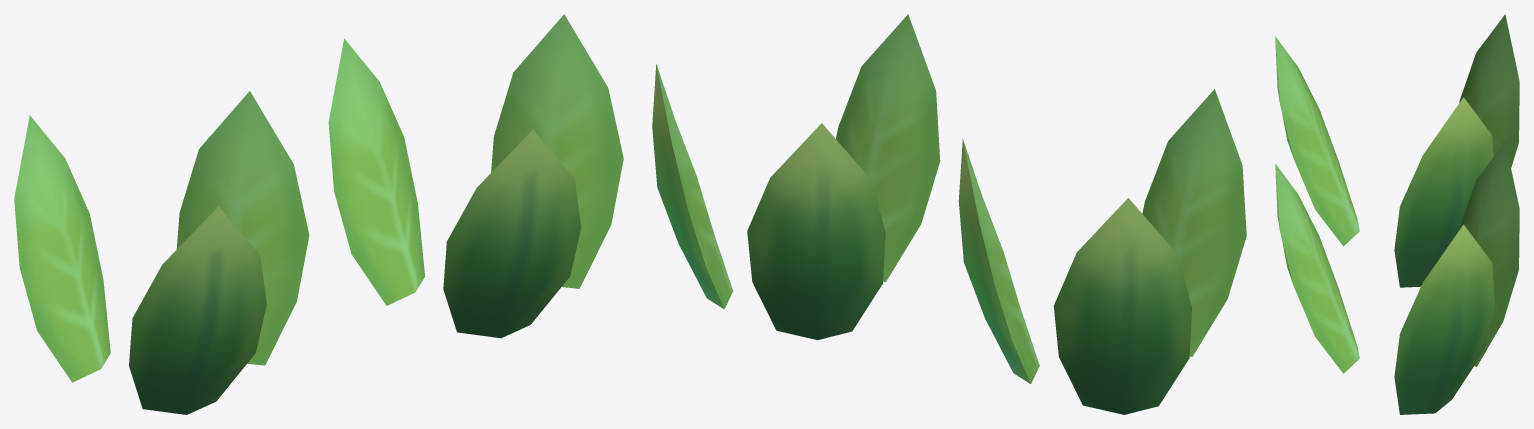
Rendered from Biggrass_3.FBX.
The picture shows the model from 3 angles, left to right: view 1: azimuth 30°, elevation 25°; view 2: azimuth 150°, elevation 25°; view 3: azimuth 270°, elevation 25°; orthographic projection. The views are drawn at different scales.
Parts seen in each view (by area): view 1: Box047; view 2: Box047; view 3: Box047.
Part boxes in pixels (left/top/right/bottom): Box047: left=14, top=14, right=623, bottom=414; Box047: left=652, top=14, right=1246, bottom=414; Box047: left=1275, top=14, right=1519, bottom=414.
Size of the model in its own units: 7.14 by 3 by 3.21.
